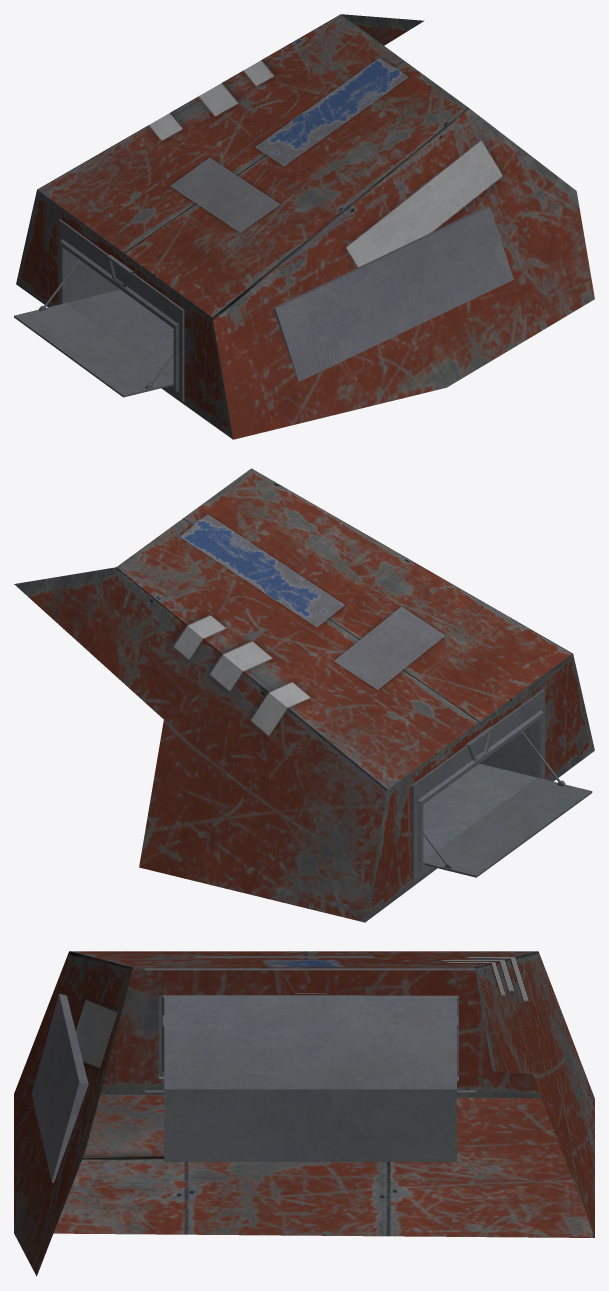
The model's file is HCP13.fbx.
3 renders of one model, top to bottom at view 1: azimuth 30°, elevation 25°; view 2: azimuth 150°, elevation 25°; view 3: azimuth 270°, elevation 25°, orthographic. The views are drawn at different scales.
Visible parts, largest first — view 1: thirteenD; view 2: thirteenD; view 3: thirteenD.
Boxes of the visible parts, left/top/right/bottom form: thirteenD: left=14, top=14, right=594, bottom=439; thirteenD: left=14, top=468, right=594, bottom=922; thirteenD: left=14, top=951, right=594, bottom=1276.
Size of the model in its own units: 5363 by 2836 by 4760.
1 material, 1 textured.
